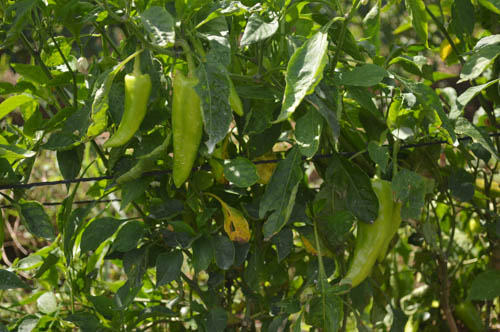ChiliPepper: (341, 179, 388, 293), (167, 72, 205, 195), (97, 74, 153, 150)
